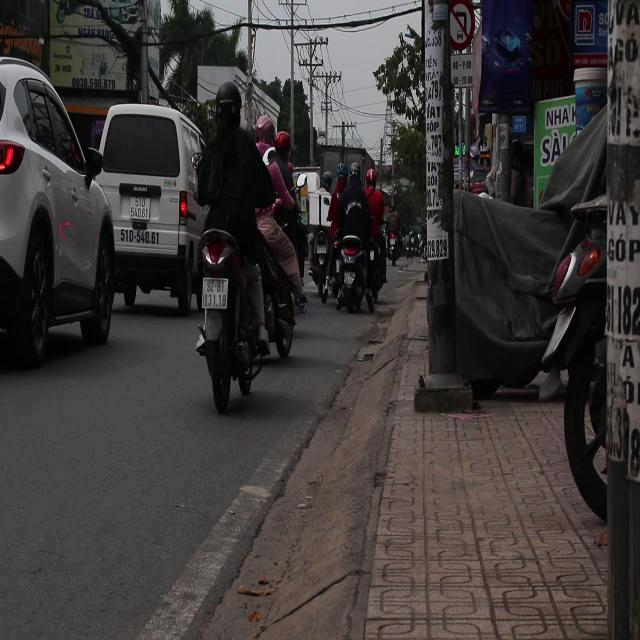car: (1, 49, 120, 370), (96, 102, 207, 318)
motorbike: (193, 225, 268, 414), (331, 223, 383, 314)
